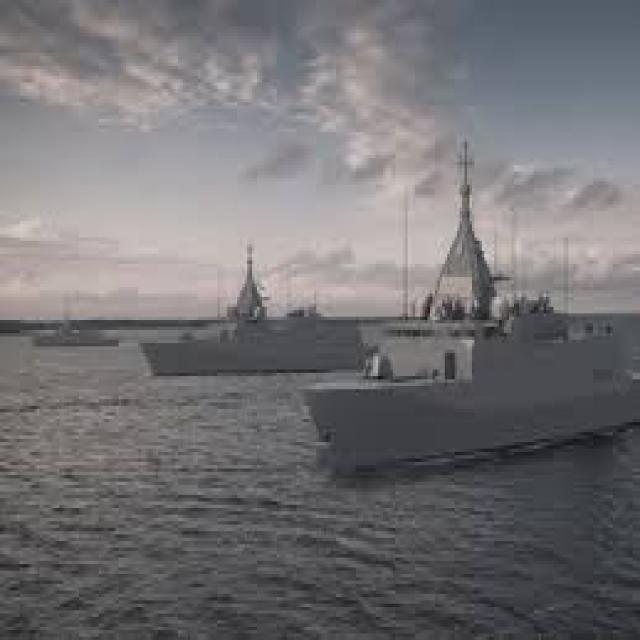navalvessels: (291, 175, 640, 485), (134, 264, 369, 373)
